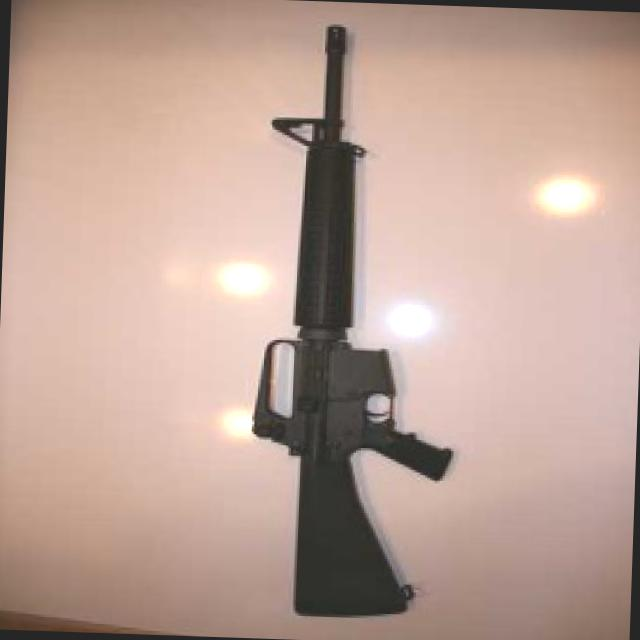long weapon: (240, 6, 457, 634)
